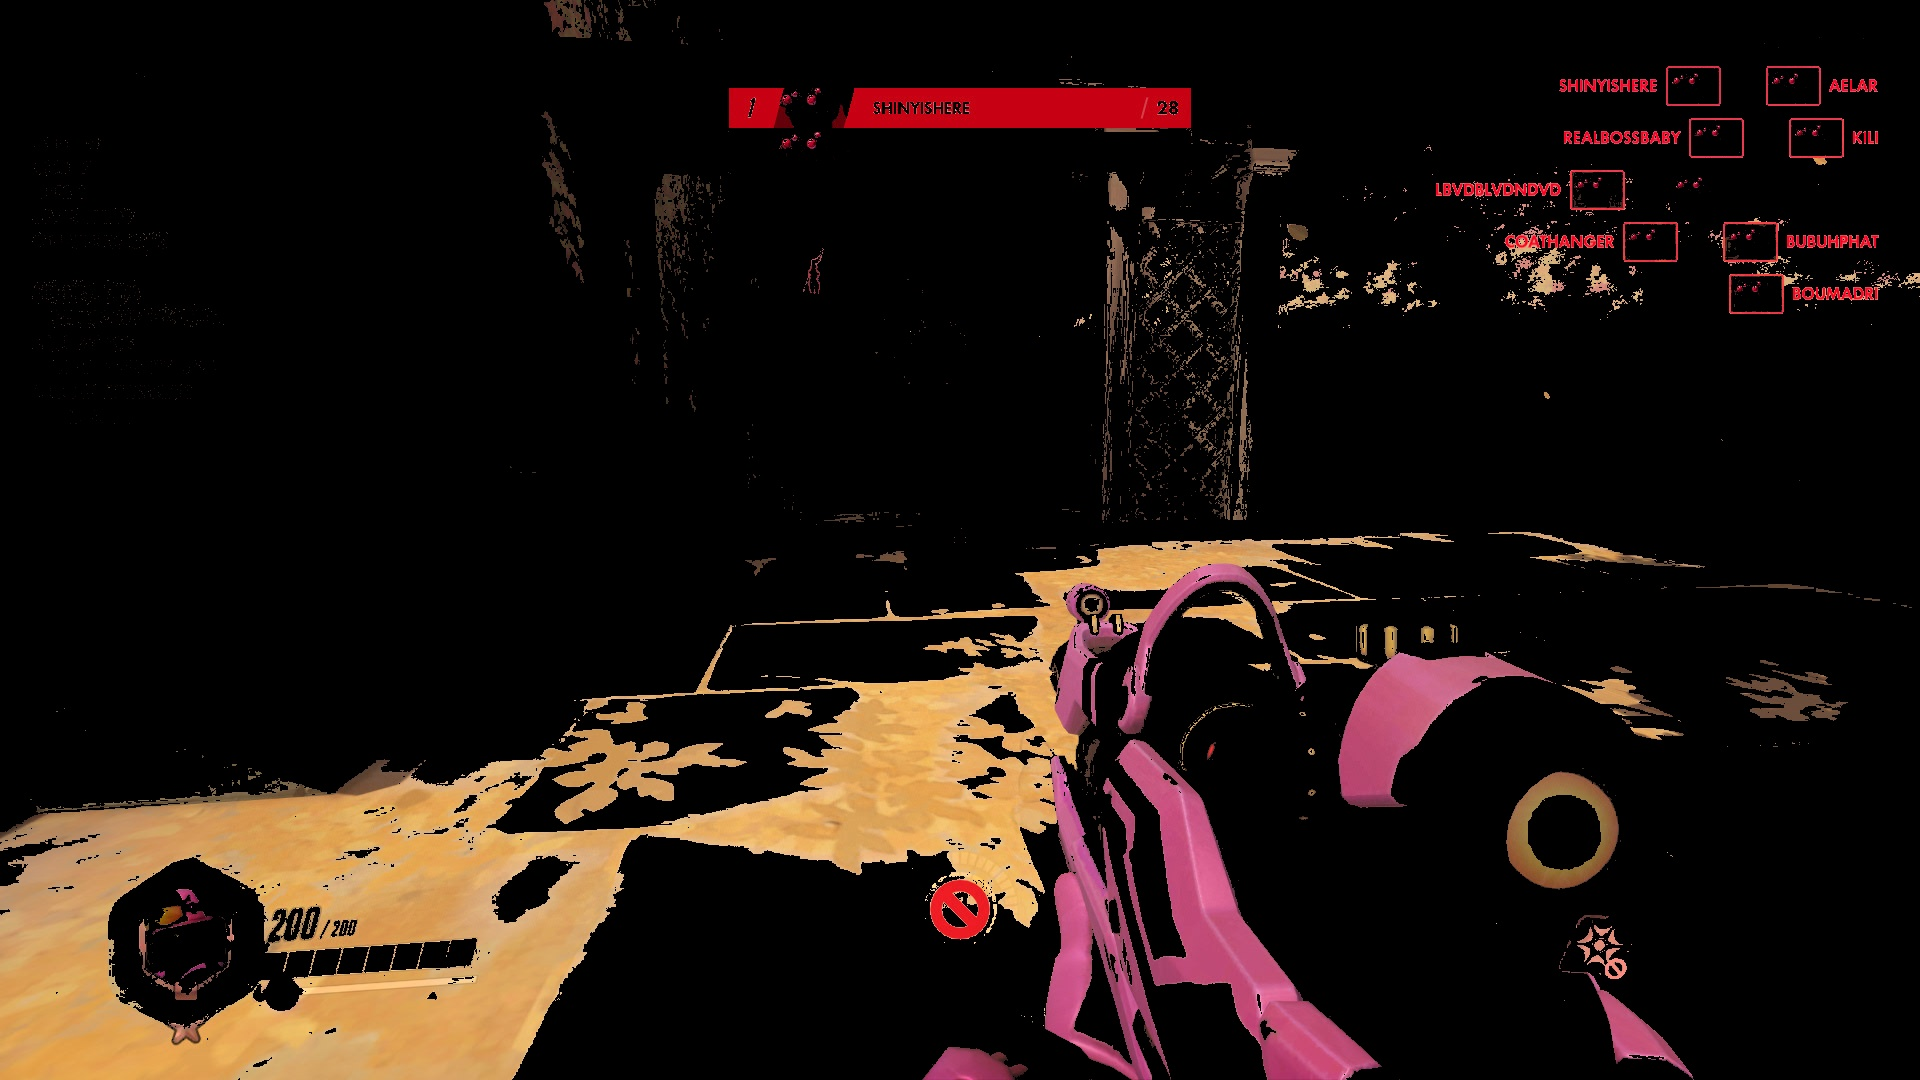widowmaker: (807, 258, 823, 294)
